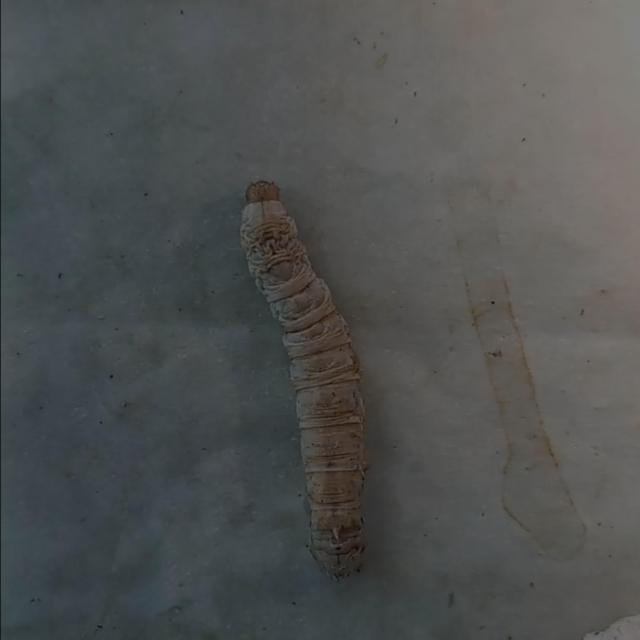Grasserie: (211, 144, 414, 594)
